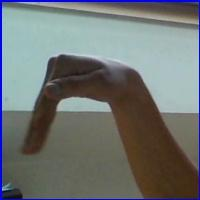A: (15, 47, 150, 161)
